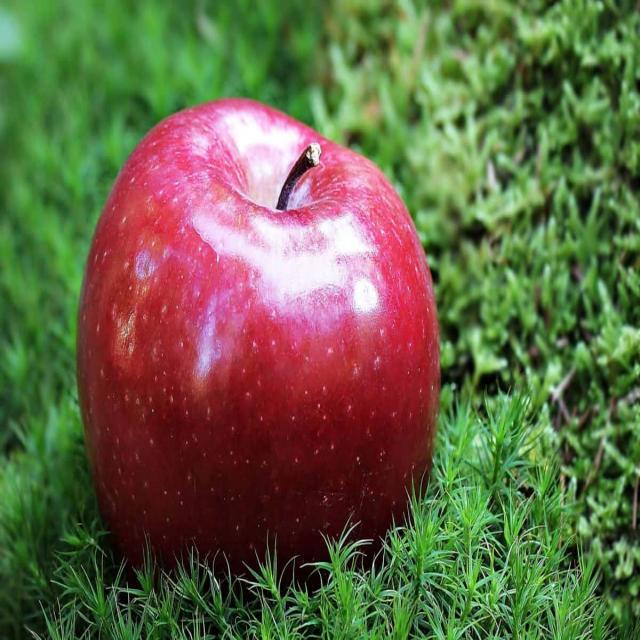Apple: (72, 92, 440, 585)
